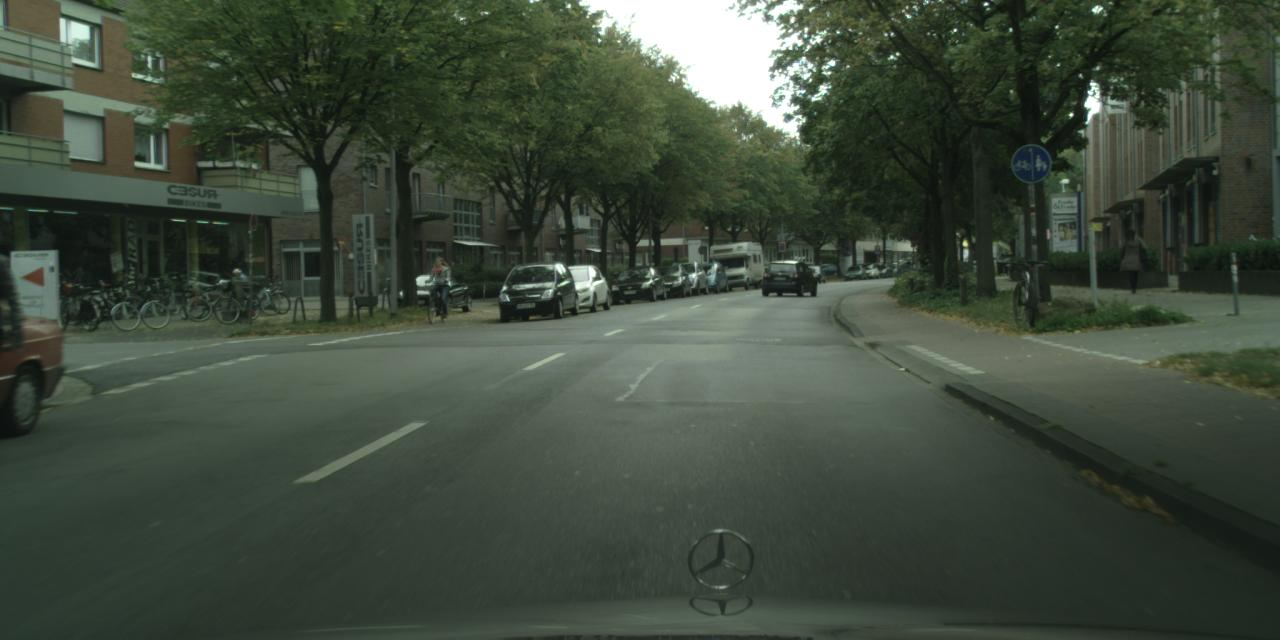ped: (1117, 227, 1144, 292), (428, 256, 452, 315), (231, 268, 250, 316)
